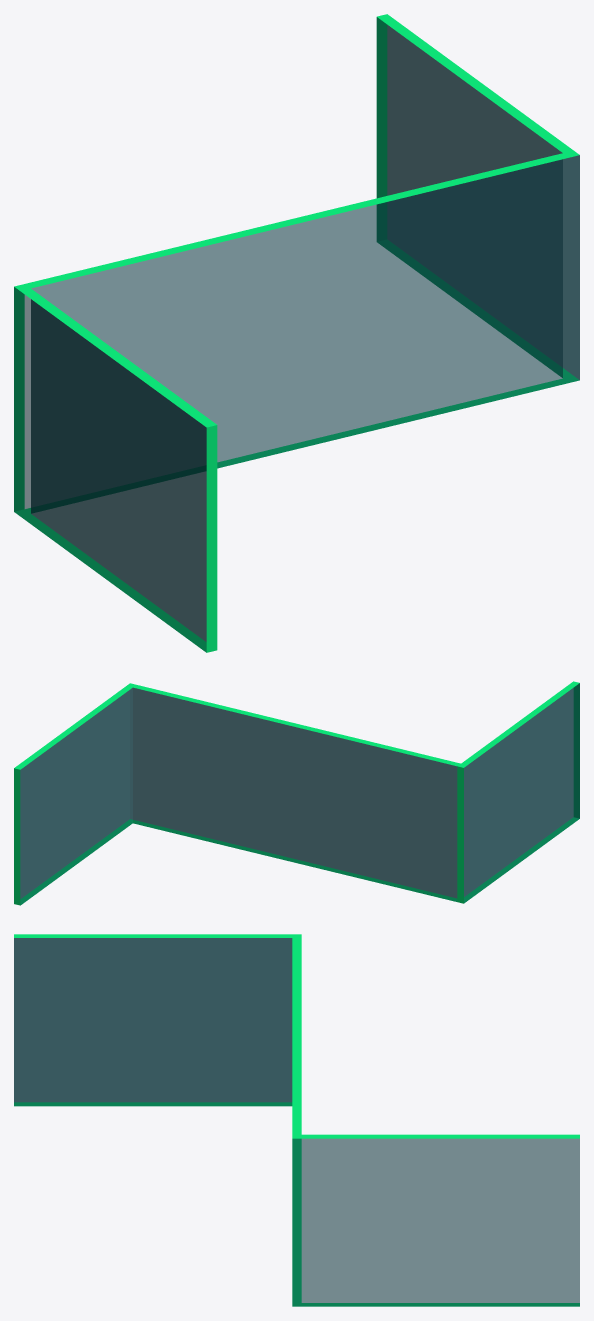
3 renders of one model, top to bottom at view 1: azimuth 30°, elevation 25°; view 2: azimuth 150°, elevation 25°; view 3: azimuth 270°, elevation 25°, orthographic. The views are drawn at different scales.
Parts seen in each view (by area): view 1: 墙_1; view 2: 墙_1; view 3: 墙_1.
Part boxes in pixels (left/top/right/bottom): 墙_1: left=14, top=14, right=579, bottom=652; 墙_1: left=14, top=681, right=579, bottom=905; 墙_1: left=14, top=934, right=579, bottom=1306.
Bounding box in the file's own units: 520 × 200 × 610.
